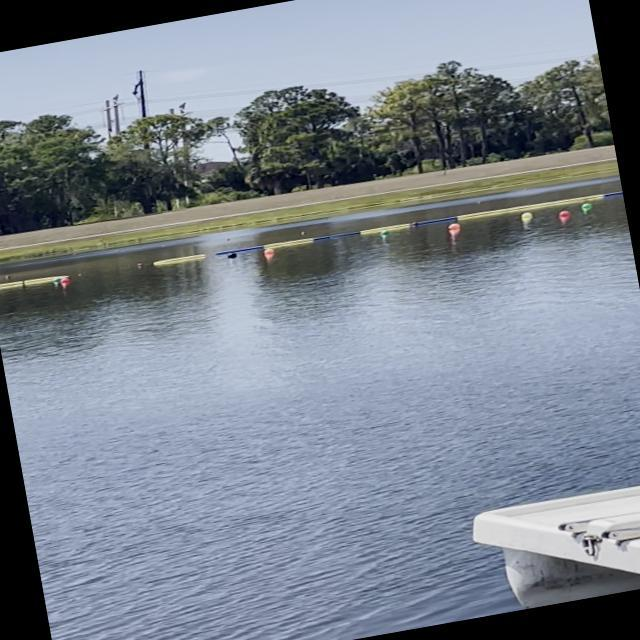buoy: (447, 221, 461, 231), (522, 210, 534, 220), (264, 247, 276, 256), (580, 202, 592, 210), (558, 208, 568, 216), (380, 228, 390, 236), (50, 276, 60, 283), (226, 252, 237, 258), (61, 276, 69, 284)
